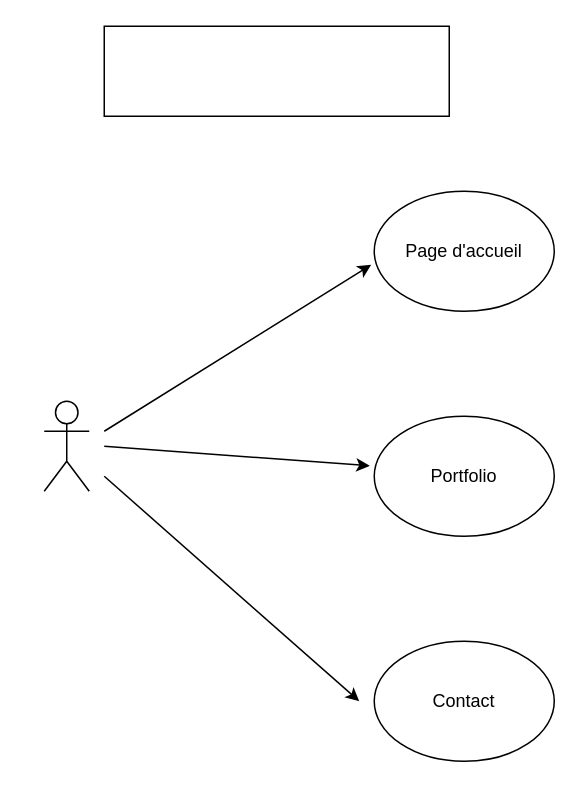
The diagram is 581 pixels wide and 788 high, and some of its shapes have lost their labels. Each missing label, with the box of its shape:
Diagramme de cas d'utilisation (Use Case): (103, 25, 449, 116)
VISITEUR: (43, 400, 89, 491)
